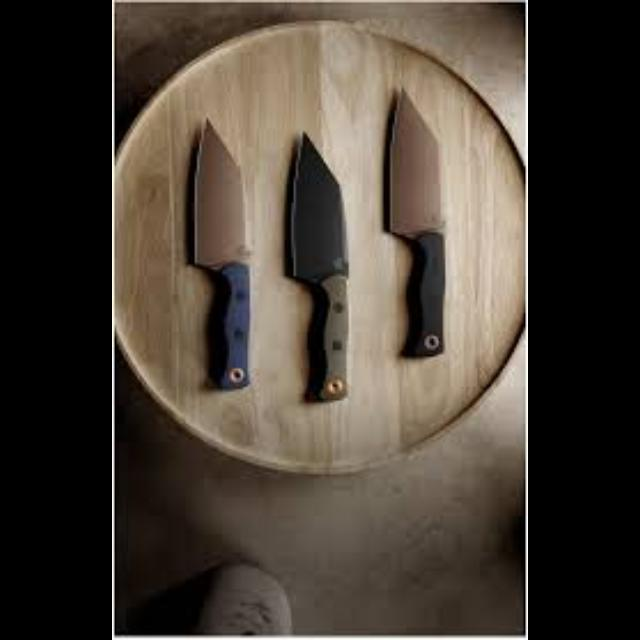Knife: (285, 130, 349, 402), (190, 115, 250, 388), (386, 86, 446, 357)
